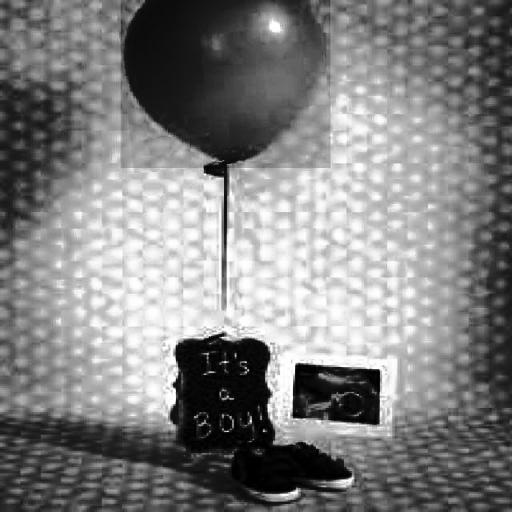balloon: (121, 0, 330, 168)
